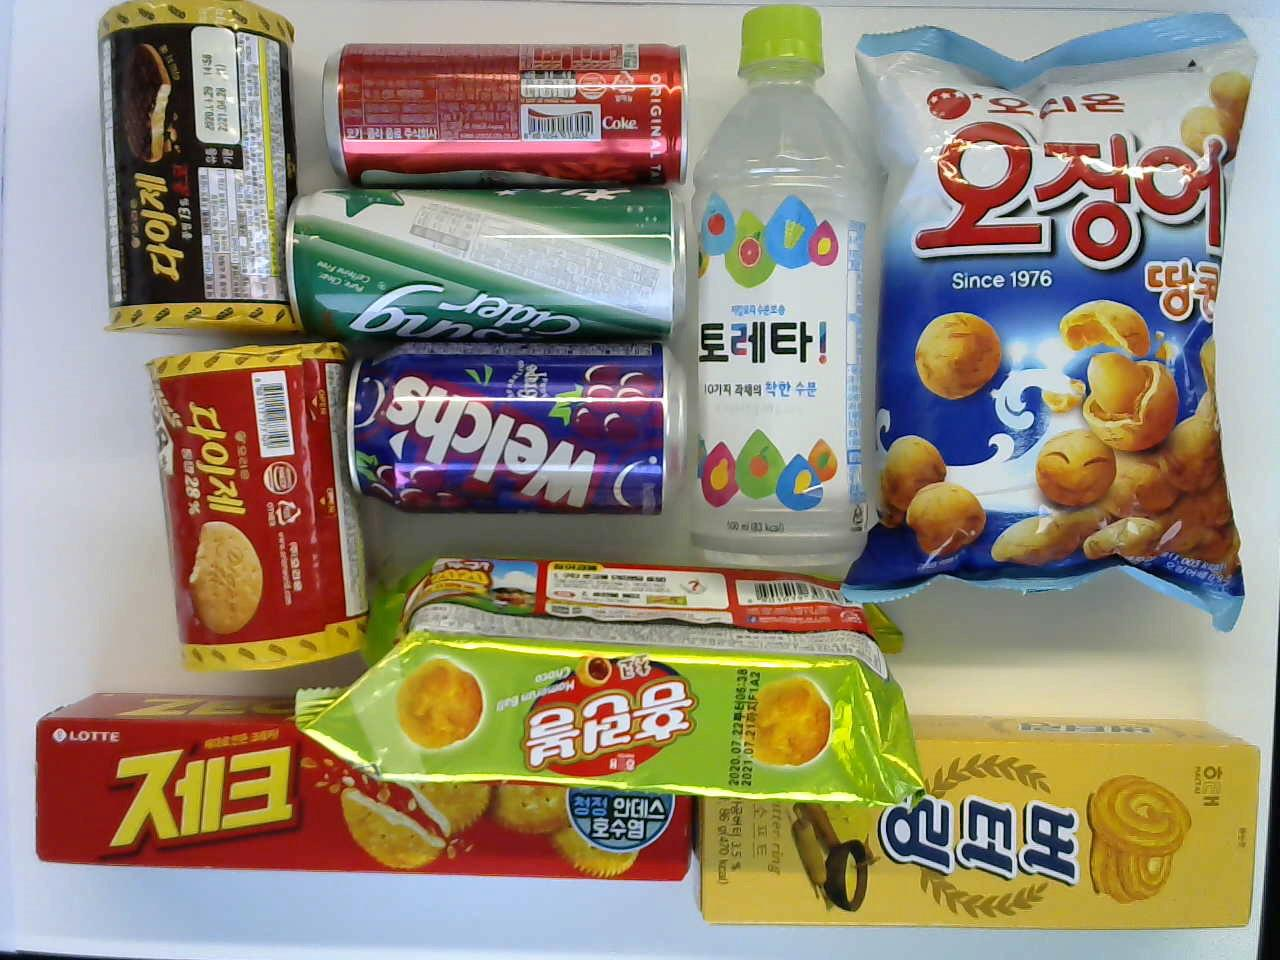buttering: (697, 716, 1263, 923)
cidar: (299, 179, 678, 339)
coke: (318, 39, 683, 181)
diget_choco: (97, 2, 288, 328)
diget_ori: (145, 350, 362, 659)
homerunball: (280, 544, 923, 813)
squid_peanut: (811, 7, 1261, 637)
toreta: (694, 7, 865, 558)
welchs: (349, 350, 681, 508)
zec: (32, 681, 696, 878)
